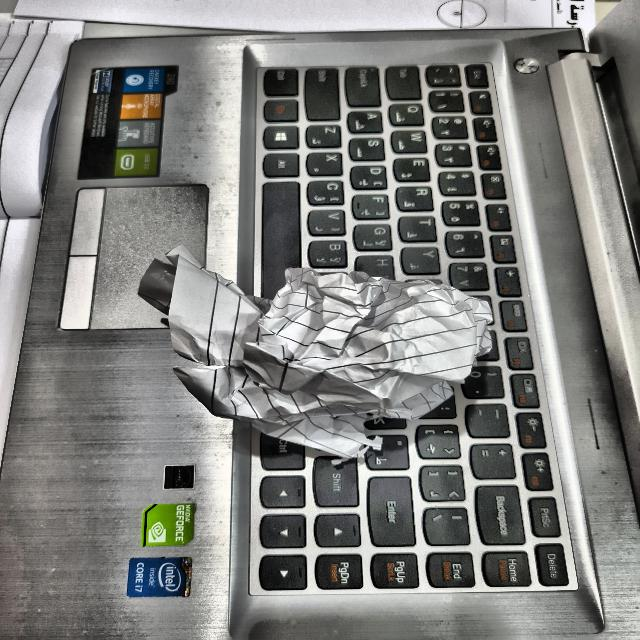Paper: (152, 259, 488, 445)
